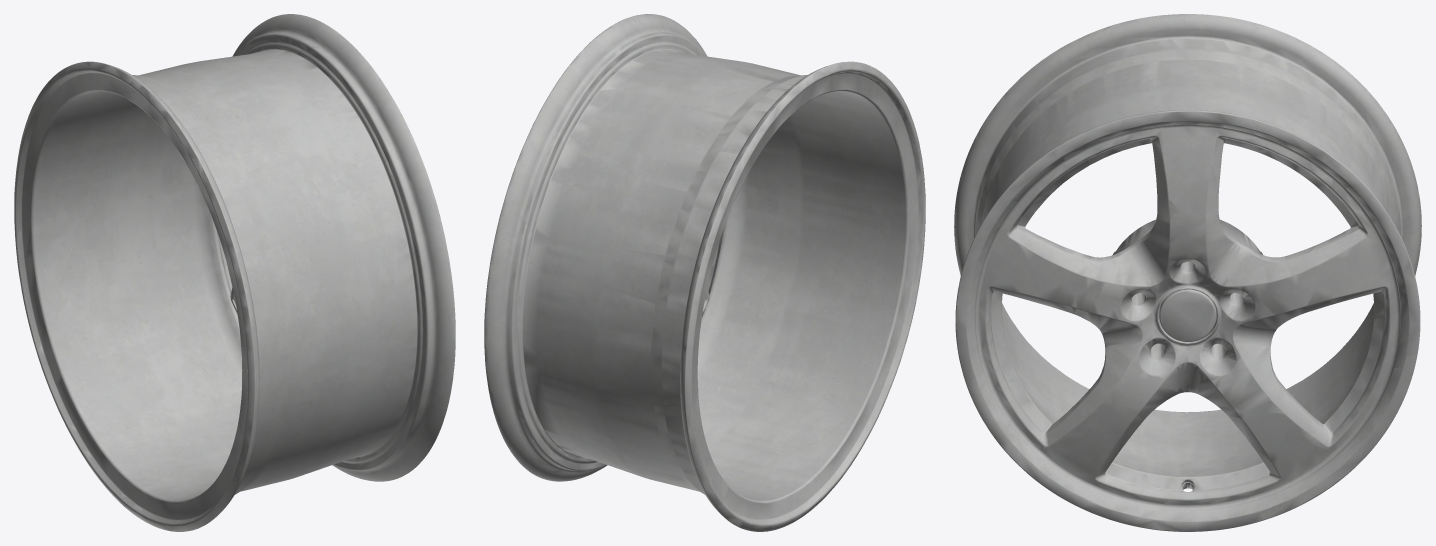
The model's file is rim.glb.
3 renders of one model, left to right at view 1: azimuth 30°, elevation 25°; view 2: azimuth 150°, elevation 25°; view 3: azimuth 270°, elevation 25°, orthographic. The views are drawn at different scales.
Visible parts, largest first — view 1: wheelRim_01_mesh_00; view 2: wheelRim_01_mesh_00; view 3: wheelRim_01_mesh_00.
Boxes of the visible parts, x1=… form: wheelRim_01_mesh_00: x1=14, y1=14, x2=455, y2=531; wheelRim_01_mesh_00: x1=484, y1=14, x2=925, y2=531; wheelRim_01_mesh_00: x1=954, y1=14, x2=1421, y2=531.
Bounding box in the file's own units: 0.255 × 0.5053 × 0.5053.
Materials: 1 (1 with a texture image).
